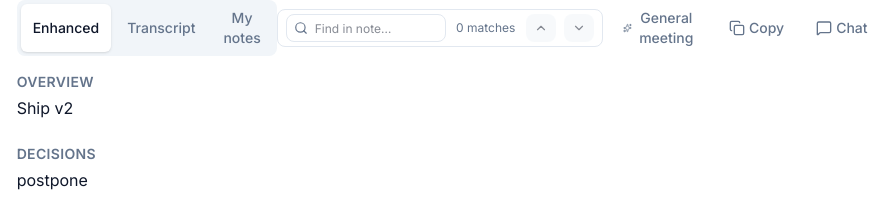
it: NoteView — template switcher › switches to Action items panel when selected from picker
Click the button with aria-label "switch template". click: (660, 28)
box: [611,4,709,52]
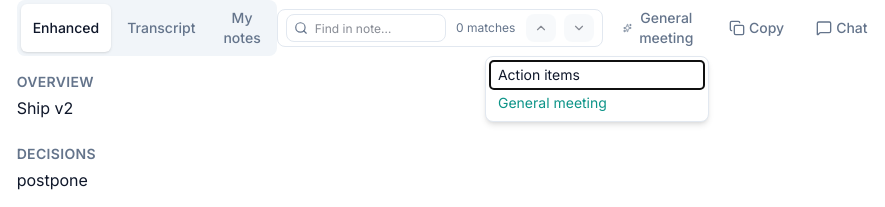
Click the option "Action items". click: (597, 75)
box: [490,61,704,89]
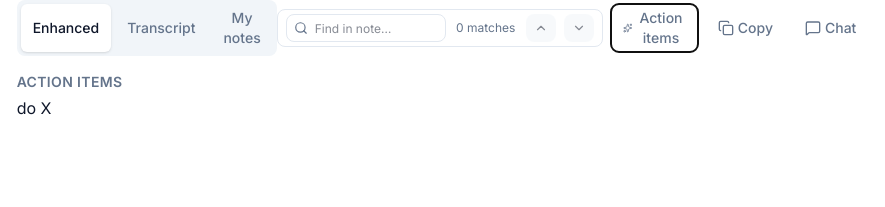
Now the text "do X" is shown, box [17,98,51,118]
Now the text "Ship v2" is gone
